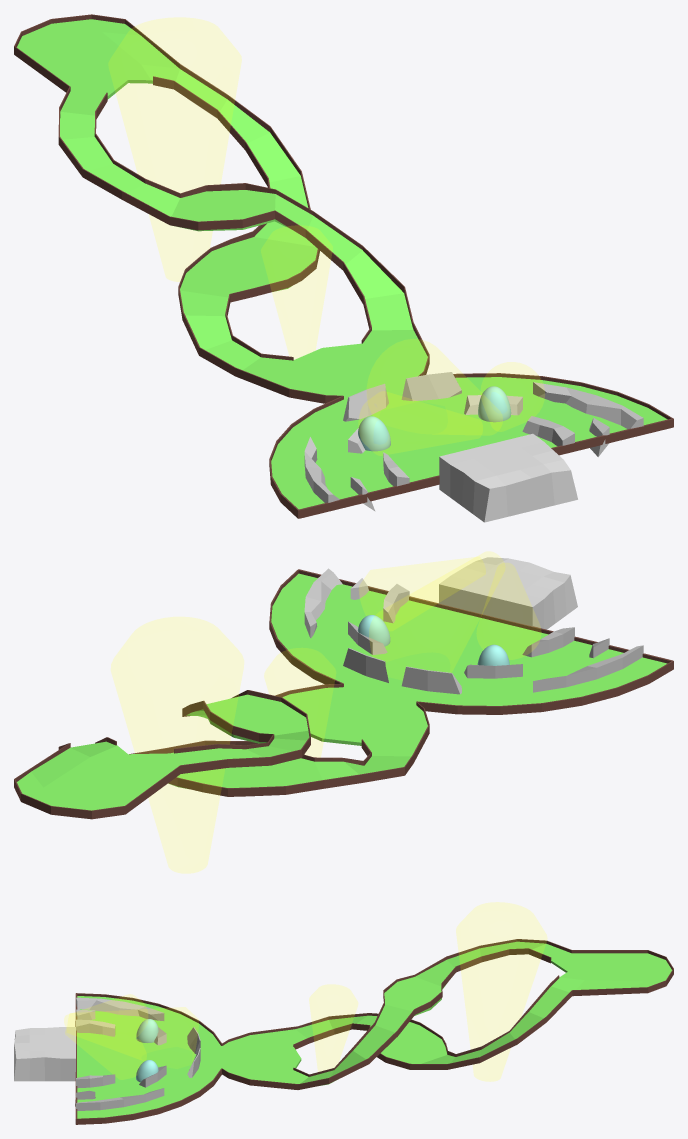
The picture shows the model from 3 angles, top to bottom: view 1: azimuth 30°, elevation 25°; view 2: azimuth 150°, elevation 25°; view 3: azimuth 270°, elevation 25°; orthographic projection. The views are drawn at different scales.
Parts seen in each view (by area): view 1: Cylinder.045, Cylinder.053, Cylinder.046, Cube.095, Cylinder.047, Cylinder.054, Cylinder.055, Cylinder.057, Cylinder.056, Sphere.224, Sphere.225; view 2: Cylinder.045, Cylinder.053, Cylinder.046, Cylinder.047, Cylinder.055, Cube.095, Cylinder.054, Cylinder.057, Cylinder.056, Sphere.224, Sphere.225; view 3: Cylinder.045, Cylinder.053, Cylinder.046, Cylinder.047, Cylinder.055, Cube.095, Cylinder.054, Cylinder.056, Cylinder.057, Sphere.225.
Part boxes in pixels (x1=…): Cylinder.045: x1=17, y1=19, x2=667, y2=509; Cylinder.053: x1=109, y1=18, x2=241, y2=281; Cylinder.046: x1=14, y1=14, x2=673, y2=518; Cube.095: x1=439, y1=433, x2=577, y2=522; Cylinder.047: x1=304, y1=372, x2=643, y2=511; Cylinder.054: x1=261, y1=226, x2=332, y2=358; Cylinder.055: x1=367, y1=339, x2=502, y2=434; Cylinder.057: x1=359, y1=391, x2=481, y2=455; Cylinder.056: x1=481, y1=362, x2=544, y2=431; Sphere.224: x1=478, y1=386, x2=511, y2=422; Sphere.225: x1=358, y1=416, x2=390, y2=451; Cylinder.045: x1=17, y1=573, x2=667, y2=810; Cylinder.053: x1=111, y1=617, x2=243, y2=872; Cylinder.046: x1=14, y1=569, x2=673, y2=819; Cylinder.047: x1=304, y1=568, x2=643, y2=694; Cylinder.055: x1=369, y1=552, x2=503, y2=672; Cube.095: x1=439, y1=557, x2=577, y2=629; Cylinder.054: x1=264, y1=648, x2=335, y2=756; Cylinder.057: x1=477, y1=563, x2=540, y2=659; Cylinder.056: x1=359, y1=557, x2=474, y2=615; Sphere.224: x1=357, y1=615, x2=390, y2=646; Sphere.225: x1=477, y1=644, x2=509, y2=665; Cylinder.045: x1=77, y1=941, x2=671, y2=1118; Cylinder.053: x1=456, y1=902, x2=546, y2=1080; Cylinder.046: x1=75, y1=939, x2=673, y2=1124; Cylinder.047: x1=75, y1=997, x2=200, y2=1110; Cylinder.055: x1=68, y1=1007, x2=198, y2=1058; Cube.095: x1=14, y1=1027, x2=75, y2=1081; Cylinder.054: x1=309, y1=985, x2=357, y2=1071; Cylinder.056: x1=65, y1=1024, x2=146, y2=1079; Cylinder.057: x1=64, y1=994, x2=146, y2=1026; Sphere.225: x1=136, y1=1019, x2=158, y2=1042.
Size of the model in its own units: 2110 by 1292 by 4668.
